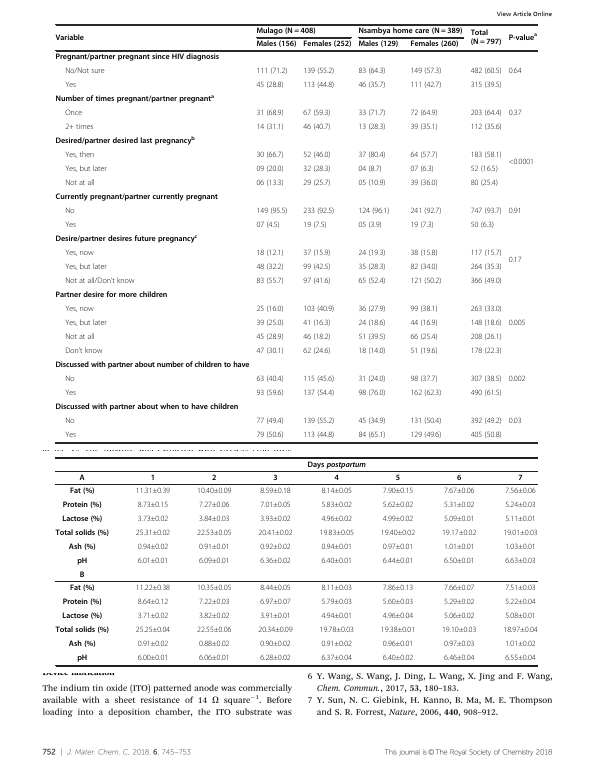borderless: (54, 23, 537, 442), (55, 456, 537, 665)
cell: (55, 361, 250, 371), (55, 403, 239, 413), (55, 94, 215, 105), (55, 53, 220, 63), (55, 193, 219, 203), (55, 234, 198, 245), (55, 136, 196, 147), (55, 291, 168, 301), (357, 27, 463, 36), (64, 277, 136, 286), (470, 29, 502, 47), (55, 528, 110, 538), (55, 625, 110, 635), (255, 27, 316, 36), (307, 460, 367, 469), (302, 40, 352, 50), (409, 40, 459, 50), (255, 40, 297, 50), (357, 40, 399, 50), (61, 514, 103, 524), (61, 611, 103, 621), (62, 500, 102, 510), (62, 597, 102, 607), (64, 165, 108, 174), (64, 263, 108, 272), (64, 319, 108, 328), (64, 67, 105, 76), (64, 347, 103, 356), (508, 32, 538, 43), (55, 33, 85, 43), (255, 67, 288, 76), (302, 67, 335, 76), (409, 67, 442, 76), (302, 81, 335, 90), (409, 81, 442, 90), (255, 207, 288, 216), (302, 207, 335, 216), (357, 207, 390, 216), (409, 207, 442, 216), (409, 277, 442, 286), (302, 305, 335, 314), (302, 375, 335, 384), (302, 389, 335, 398), (409, 389, 442, 398), (302, 417, 335, 426), (409, 417, 442, 426), (302, 431, 335, 440), (409, 431, 442, 440), (470, 67, 502, 76), (470, 81, 502, 90), (470, 109, 502, 118), (470, 123, 502, 132), (470, 151, 502, 160), (470, 207, 502, 216), (470, 249, 502, 258), (470, 263, 502, 272), (470, 277, 502, 286), (470, 305, 502, 314), (470, 319, 502, 328), (470, 333, 502, 342), (470, 347, 502, 356), (470, 375, 502, 384), (470, 389, 502, 398), (470, 417, 502, 426), (470, 431, 502, 440), (68, 542, 96, 552), (68, 639, 96, 649), (64, 151, 95, 160), (64, 179, 95, 188), (64, 249, 95, 258), (64, 305, 95, 314), (64, 333, 95, 342), (64, 123, 94, 132), (357, 67, 386, 76), (255, 81, 284, 90), (357, 81, 386, 90), (255, 109, 284, 118), (302, 109, 331, 118), (357, 109, 386, 118), (409, 109, 438, 118), (255, 123, 284, 132), (302, 123, 331, 132), (357, 123, 386, 132), (409, 123, 438, 132), (255, 151, 284, 160), (302, 151, 331, 160), (357, 151, 386, 160), (409, 151, 438, 160), (255, 165, 284, 174), (302, 165, 331, 174), (470, 165, 499, 174), (255, 179, 284, 188), (302, 179, 331, 188), (357, 179, 386, 188), (409, 179, 438, 188), (470, 179, 499, 188), (255, 249, 284, 258), (302, 249, 331, 258), (357, 249, 386, 258), (409, 249, 438, 258), (255, 263, 284, 272), (302, 263, 331, 272), (357, 263, 386, 272), (409, 263, 438, 272), (255, 277, 284, 286), (302, 277, 331, 286), (357, 277, 386, 286), (255, 305, 284, 314), (357, 305, 386, 314), (409, 305, 438, 314), (255, 319, 284, 328), (302, 319, 331, 328), (357, 319, 386, 328), (409, 319, 438, 328), (255, 333, 284, 342), (302, 333, 331, 342), (357, 333, 386, 342), (409, 333, 438, 342), (255, 347, 284, 356), (302, 347, 331, 356), (357, 347, 386, 356), (409, 347, 438, 356), (255, 375, 284, 384), (357, 375, 386, 384), (409, 375, 438, 384), (255, 389, 284, 398), (357, 389, 386, 398), (255, 417, 284, 426), (357, 417, 386, 426), (255, 431, 284, 440), (357, 431, 386, 440), (69, 486, 95, 496), (69, 583, 95, 593), (135, 487, 171, 494), (196, 487, 232, 494), (135, 529, 171, 536), (196, 529, 232, 536), (257, 529, 293, 536), (319, 529, 355, 536), (380, 529, 416, 536), (441, 529, 477, 536), (502, 529, 538, 536), (135, 584, 171, 591), (196, 584, 232, 591), (135, 626, 171, 633), (196, 626, 232, 633), (257, 626, 293, 633), (319, 626, 355, 633), (380, 626, 416, 633), (441, 626, 477, 633), (502, 626, 538, 633), (508, 158, 535, 167), (357, 165, 383, 174), (409, 165, 435, 174), (255, 221, 281, 230), (357, 221, 383, 230), (409, 221, 435, 230), (259, 487, 292, 494), (320, 487, 353, 494), (504, 487, 537, 494), (259, 501, 292, 508), (320, 501, 353, 508), (504, 501, 537, 508), (259, 515, 292, 522), (320, 515, 353, 522), (504, 515, 537, 522), (259, 543, 292, 550), (320, 543, 353, 550), (504, 543, 537, 550), (259, 557, 292, 564), (320, 557, 353, 564), (504, 557, 537, 564), (259, 584, 292, 591), (320, 584, 353, 591), (504, 584, 537, 591), (259, 598, 292, 605), (320, 598, 353, 605), (504, 598, 537, 605), (259, 612, 292, 619), (320, 612, 353, 619), (504, 612, 537, 619), (259, 640, 292, 647), (320, 640, 353, 647), (504, 640, 537, 647), (259, 654, 292, 661), (320, 654, 353, 661), (504, 654, 537, 661), (302, 221, 327, 230), (470, 221, 495, 230), (382, 487, 414, 494), (443, 487, 475, 494), (137, 501, 169, 508), (198, 501, 230, 508), (382, 501, 414, 508), (443, 501, 475, 508), (137, 515, 169, 522), (198, 515, 230, 522), (382, 515, 414, 522), (443, 515, 475, 522), (137, 543, 169, 550), (198, 543, 230, 550), (382, 543, 414, 550), (443, 543, 475, 550), (137, 557, 169, 564), (198, 557, 230, 564), (382, 557, 414, 564), (443, 557, 475, 564), (382, 584, 414, 591), (443, 584, 475, 591), (137, 598, 169, 605), (198, 598, 230, 605), (382, 598, 414, 605), (443, 598, 475, 605), (137, 612, 169, 619), (198, 612, 230, 619), (382, 612, 414, 619), (443, 612, 475, 619), (137, 640, 169, 647), (198, 640, 230, 647), (382, 640, 414, 647), (443, 640, 475, 647), (137, 654, 169, 661), (198, 654, 230, 661), (382, 654, 414, 661), (443, 654, 475, 661), (64, 109, 83, 118), (508, 319, 526, 328), (508, 375, 526, 384), (508, 67, 522, 76), (508, 109, 522, 118), (508, 207, 522, 216), (508, 256, 522, 265), (508, 417, 522, 426), (76, 556, 88, 566), (76, 653, 88, 663), (64, 81, 77, 90), (64, 221, 77, 230), (64, 389, 77, 398), (64, 431, 77, 440), (64, 207, 75, 216), (64, 375, 75, 384), (64, 417, 75, 426), (79, 473, 86, 483), (333, 473, 340, 483), (150, 473, 156, 483), (211, 473, 217, 483), (272, 473, 278, 483), (395, 473, 401, 483), (456, 473, 462, 483), (517, 473, 523, 483), (79, 570, 85, 580)
